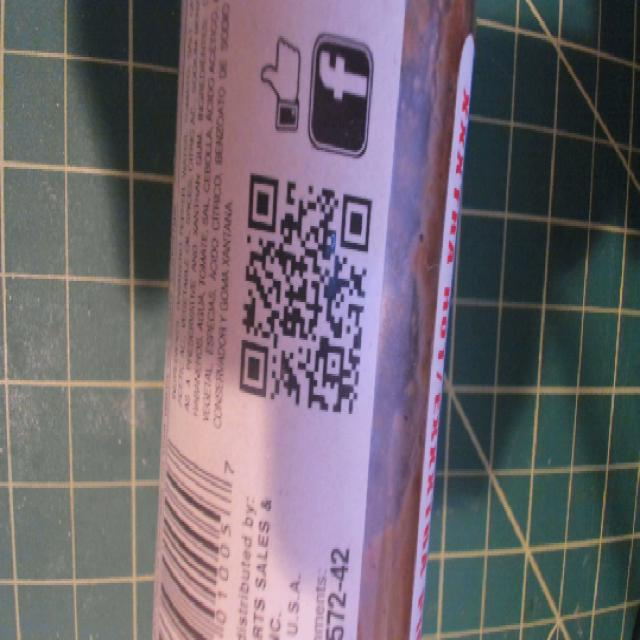QR_CODE: (229, 156, 387, 429)
